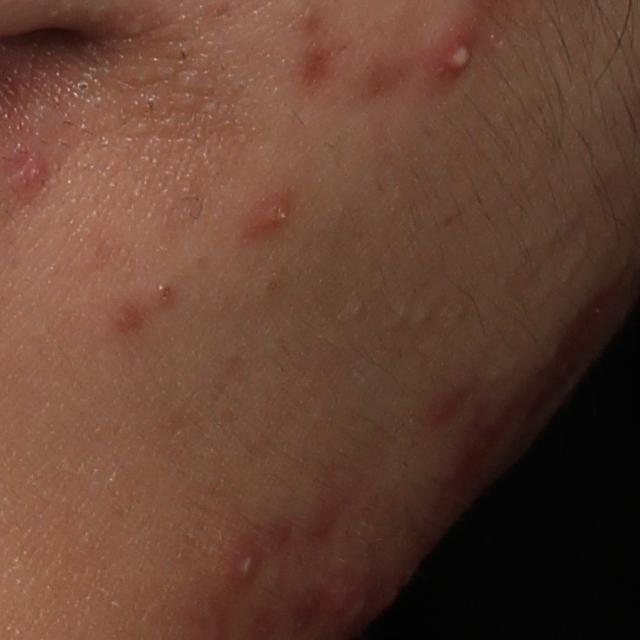papule: (337, 572, 405, 633), (10, 149, 50, 198)
pustule: (426, 21, 483, 86), (238, 188, 297, 241), (229, 541, 269, 585)
